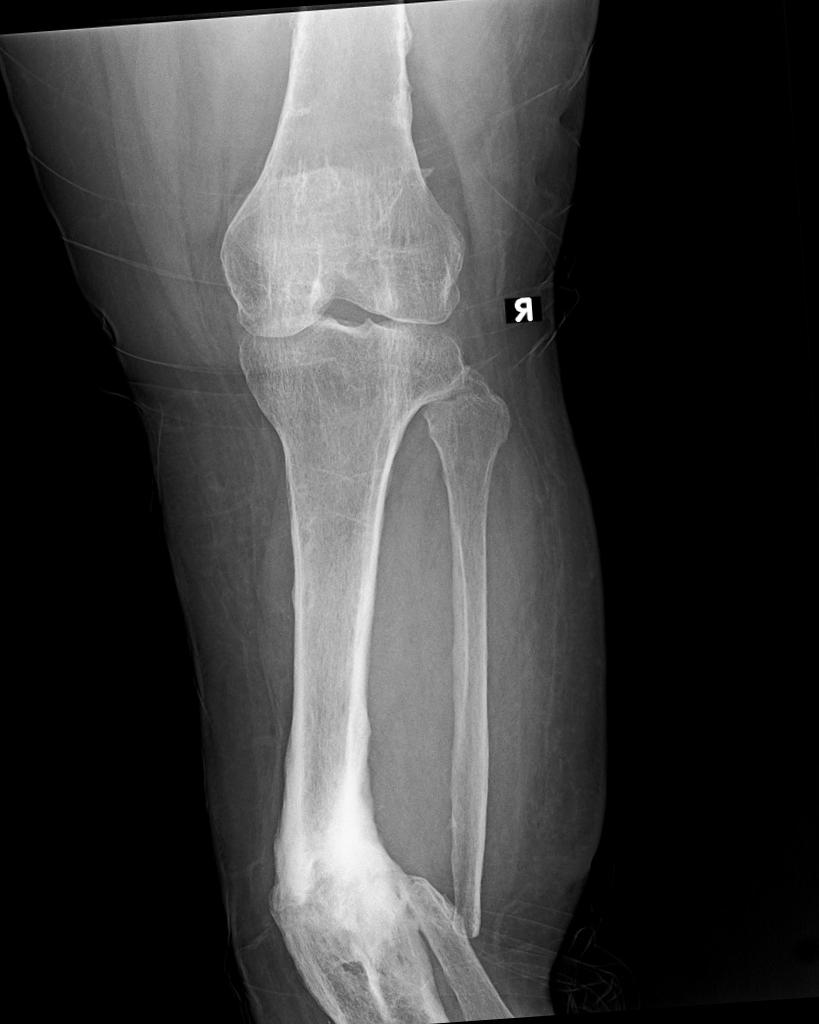messed_up_angle: (395, 840, 504, 984)
